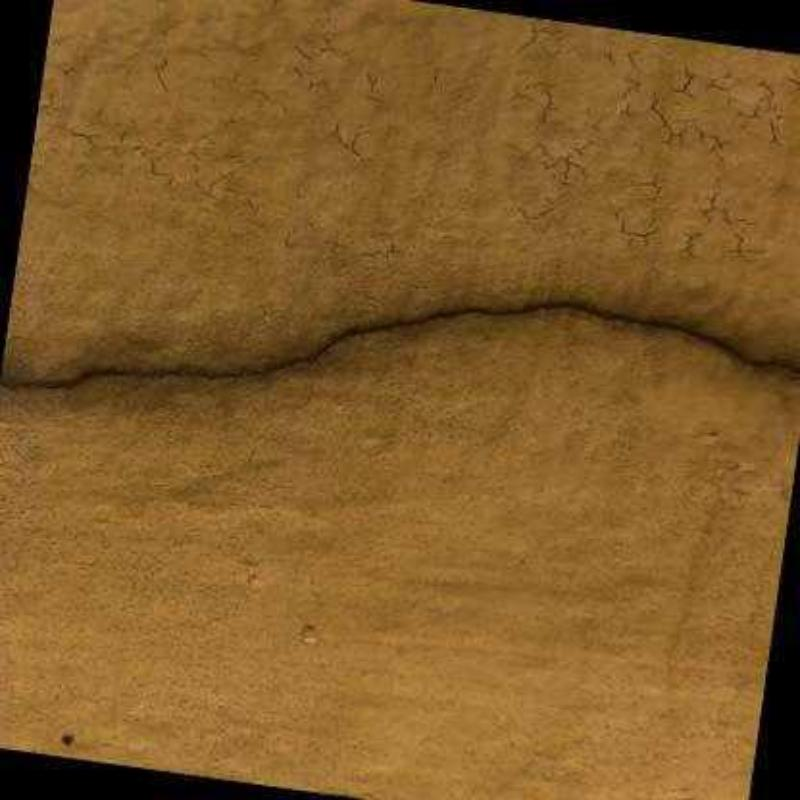pothole: (1, 301, 798, 391)
